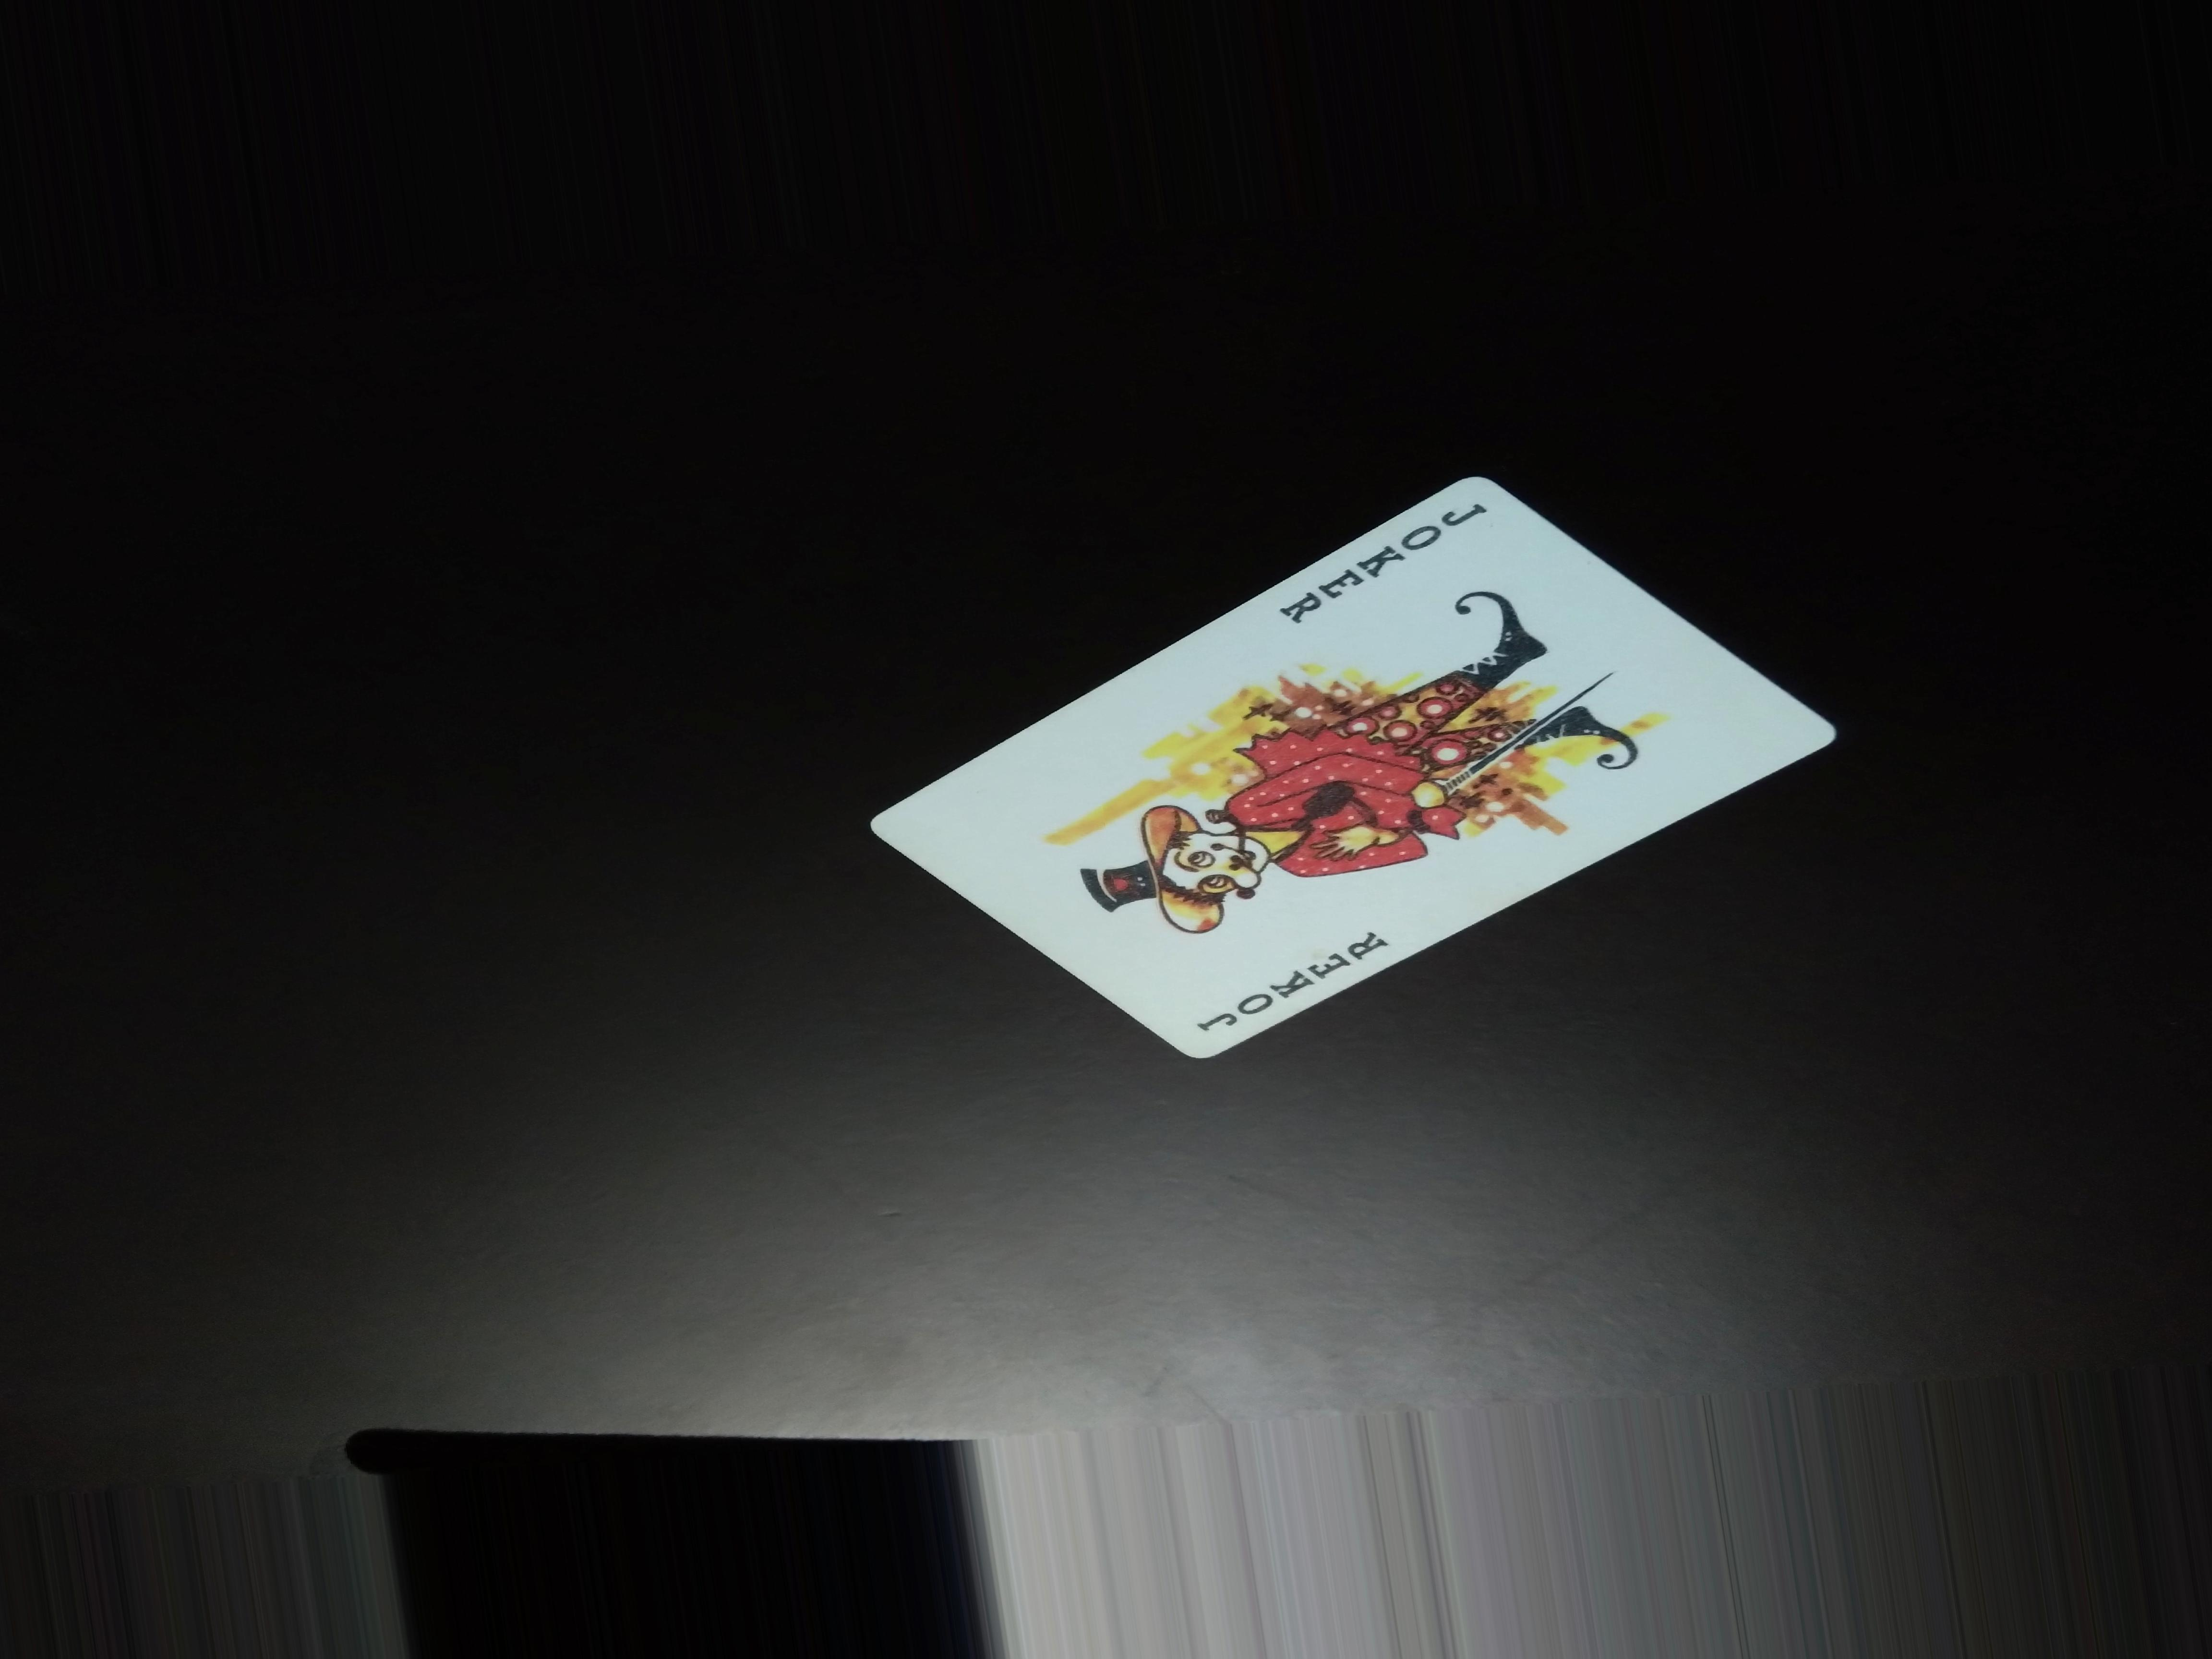JOKER: (1271, 488, 1491, 631)
